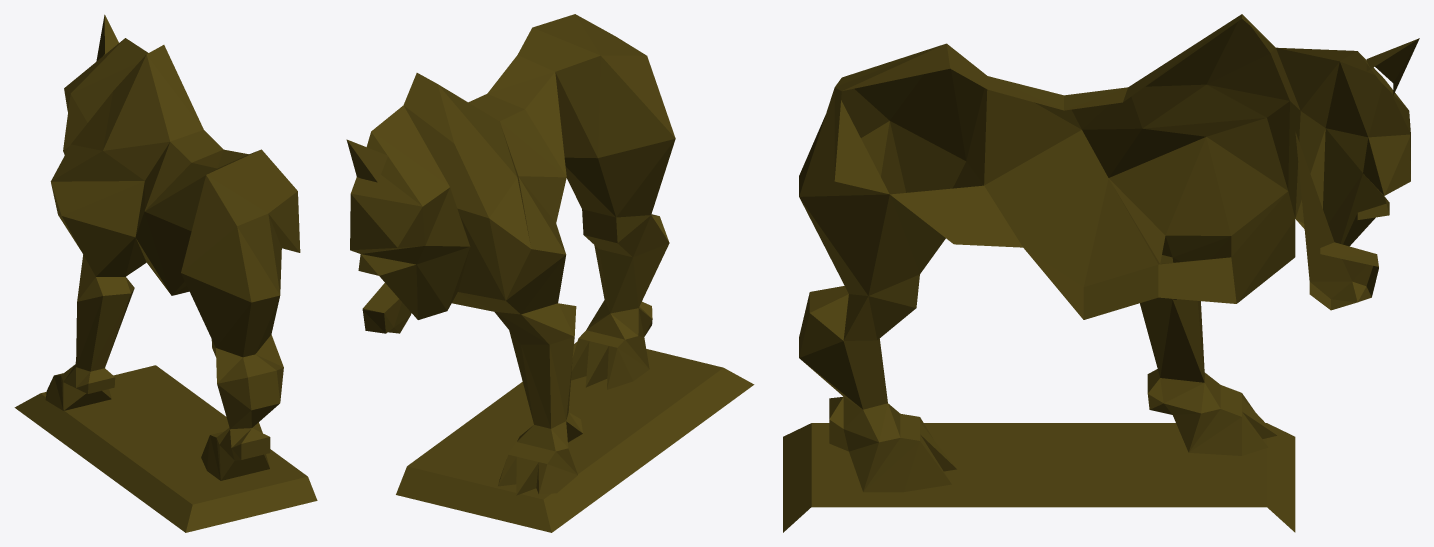
Rendered from obj_eerie_statue_2_0.obj.
The picture shows the model from 3 angles, left to right: view 1: azimuth 30°, elevation 25°; view 2: azimuth 150°, elevation 25°; view 3: azimuth 270°, elevation 25°; orthographic projection. The views are drawn at different scales.
Bounding box in the file's own units: 1 × 2.49 × 2.8.
